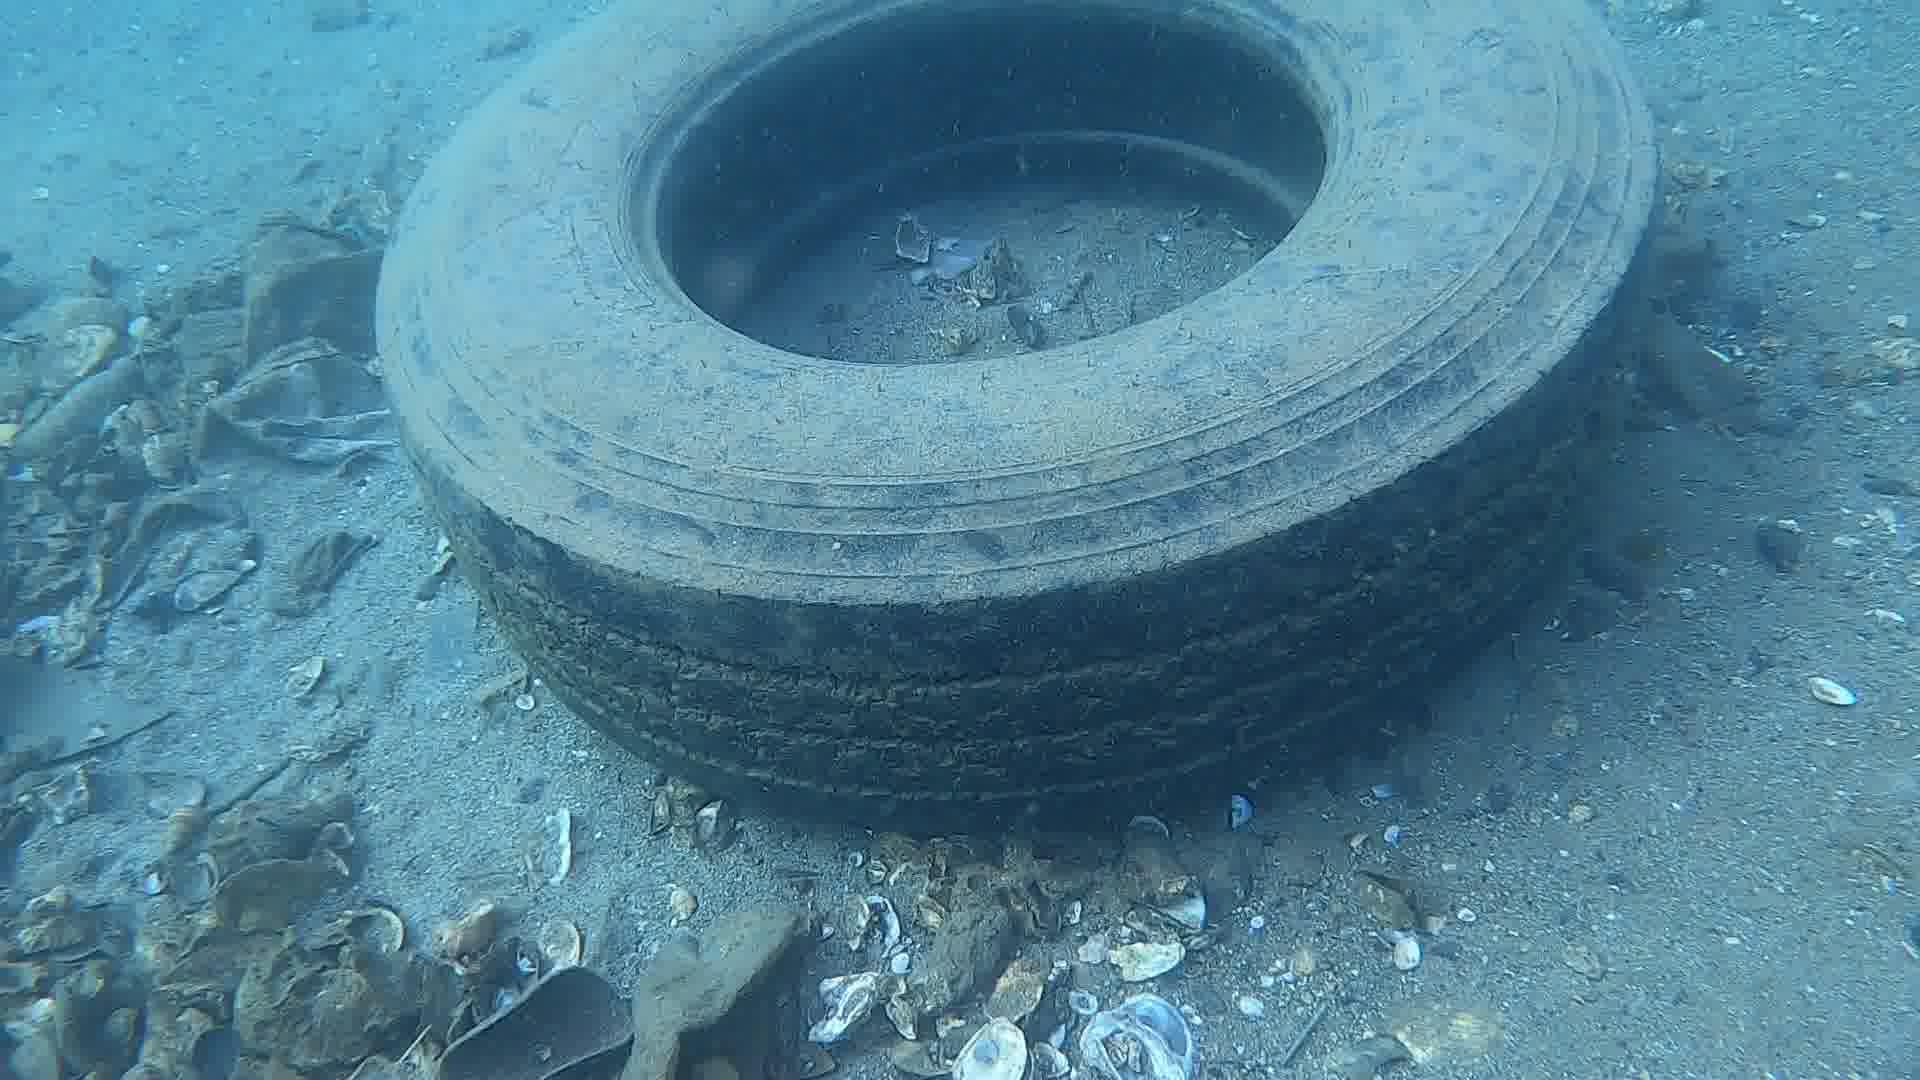tire: (372, 0, 1660, 829)
